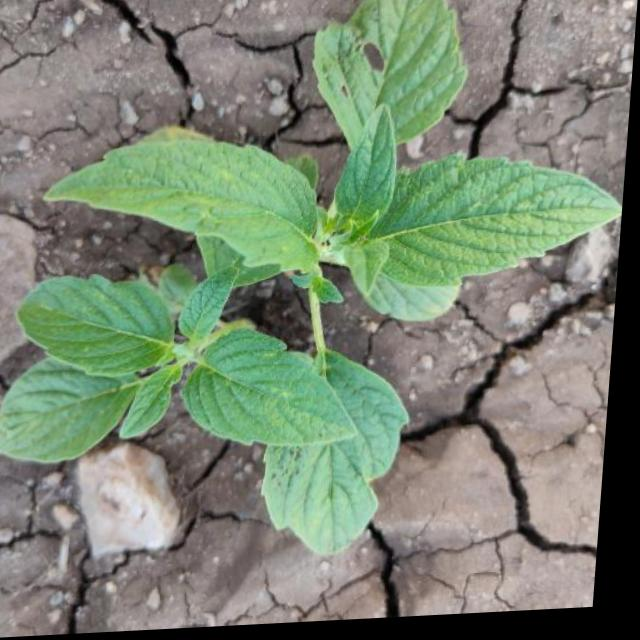crop: (0, 0, 635, 583)
